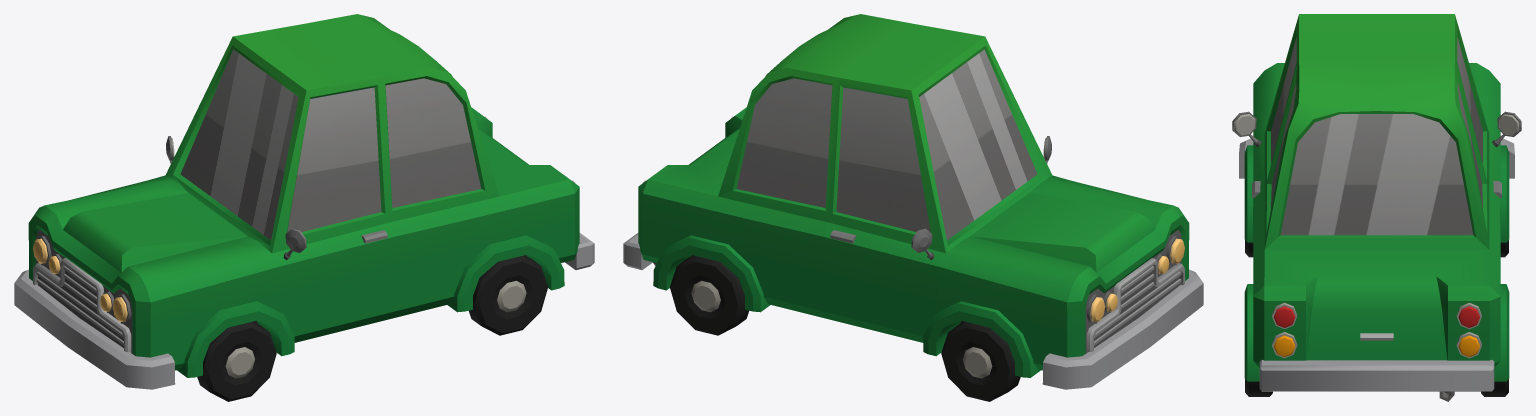
Rendered from Car_8_F.gltf.
3 renders of one model, left to right at view 1: azimuth 30°, elevation 25°; view 2: azimuth 150°, elevation 25°; view 3: azimuth 270°, elevation 25°, orthographic. The views are drawn at different scales.
Visible parts, largest first — view 1: Car_8_F, RL, FL; view 2: Car_8_F, RR, FR; view 3: Car_8_F, RL, RR.
Boxes of the visible parts, left/top/right/bottom form: Car_8_F: left=14, top=14, right=594, bottom=389; RL: left=469, top=255, right=547, bottom=335; FL: left=197, top=321, right=276, bottom=401; Car_8_F: left=623, top=14, right=1203, bottom=389; RR: left=670, top=255, right=748, bottom=335; FR: left=941, top=321, right=1020, bottom=401; Car_8_F: left=1232, top=14, right=1521, bottom=401; RL: left=1245, top=379, right=1272, bottom=396; RR: left=1481, top=379, right=1508, bottom=396.
Size of the model in its own units: 3.38 by 1.84 by 1.7.
Materials: 3 (3 with a texture image).
